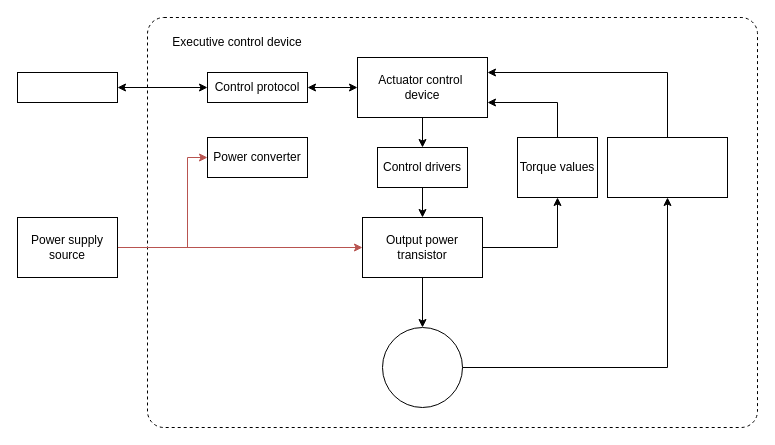
This 775x445 diagram has some shape labels left out. The centre of each missing label's shape, as x and y in pixels:
"Bus protocol" goes at [67,87].
"Motor" goes at [422,367].
"Position and velocity values" goes at [667,167].
